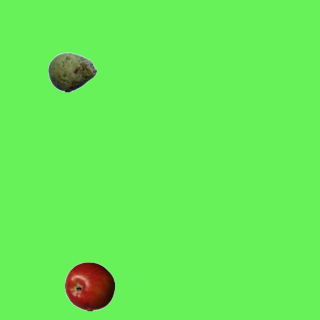Apple Braeburn: (64, 261, 114, 311)
Pear Stone: (47, 47, 97, 97)
